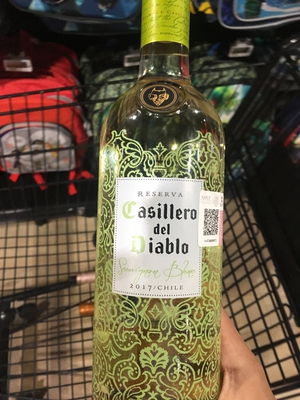casillero del diablo sauvignon blanc: (84, 19, 240, 400)
